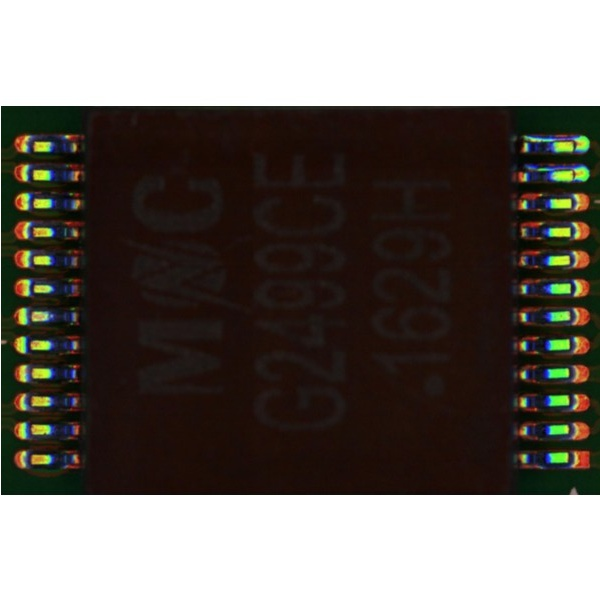Bad_podu: (568, 141, 579, 151), (567, 169, 578, 179)
Bad_qiaojiao: (522, 165, 569, 172), (522, 136, 572, 142)
